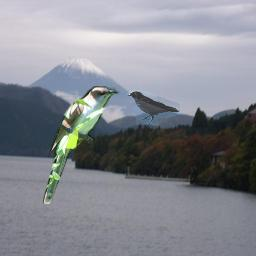Crow: (127, 90, 180, 125)
Cuckoo: (43, 86, 120, 204)
